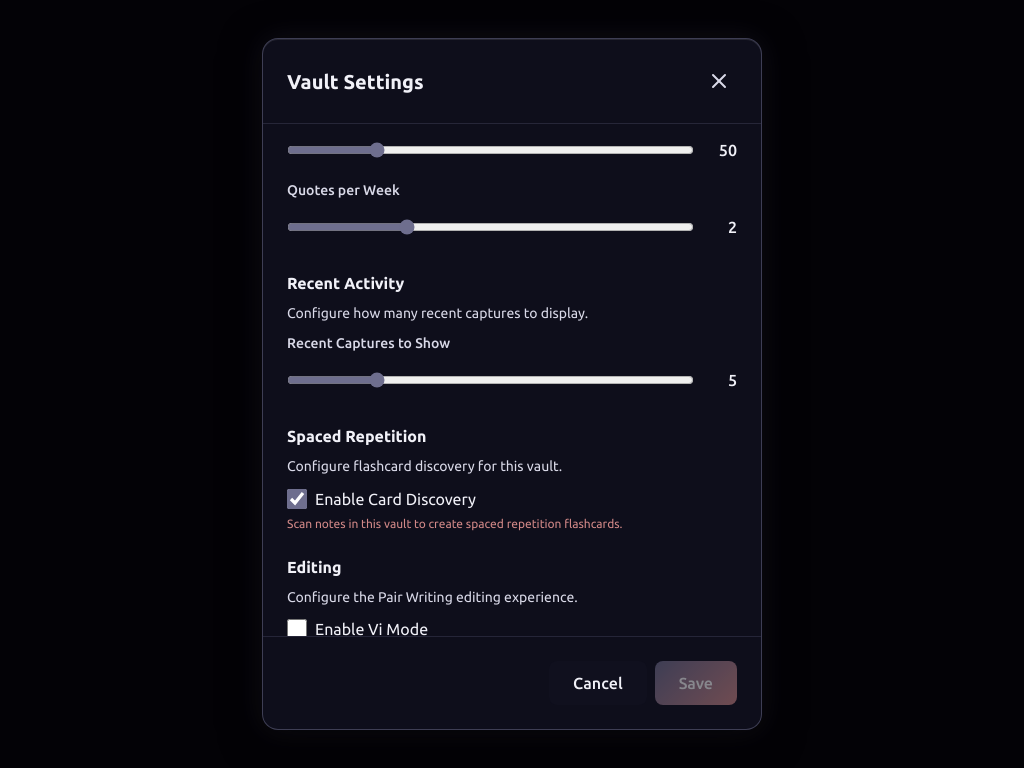
Test: ConfigEditorDialog › slider interactions › recentCaptures slider value display updates when slider is moved
(page scrolled)
Set the slider labelled "Recent Captures to Show" to "15" at (583, 380), box [287,358,694,402]
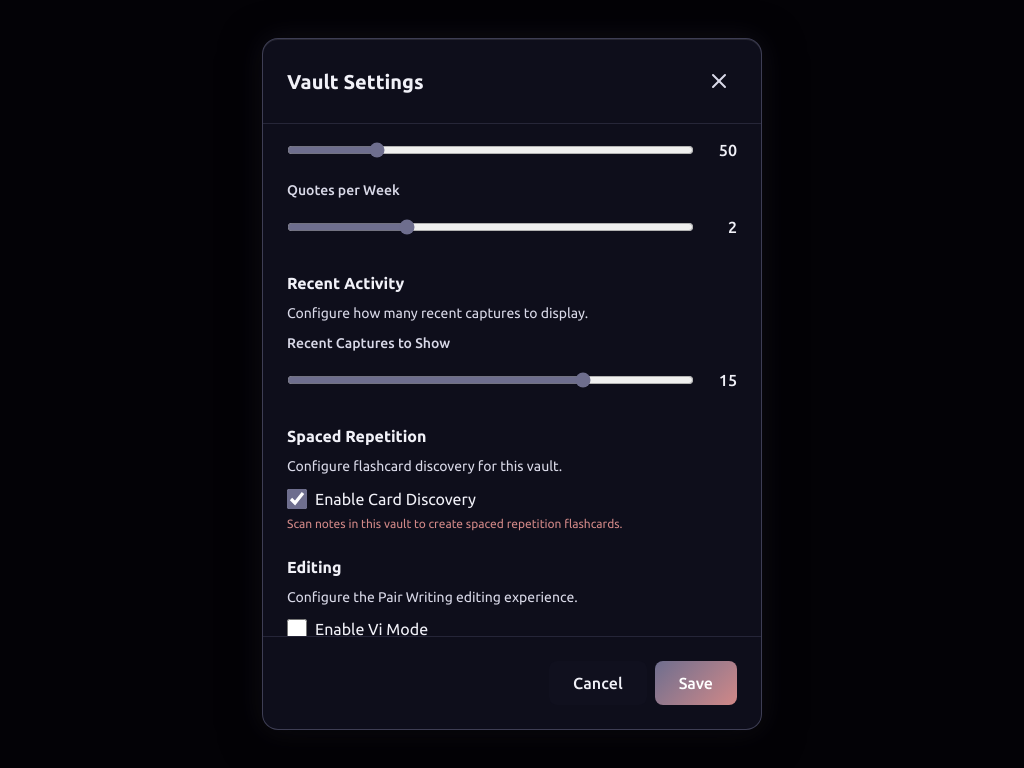
Result: the text with class "config-editor__slider-value" reads "15" at [719,371,737,389]
